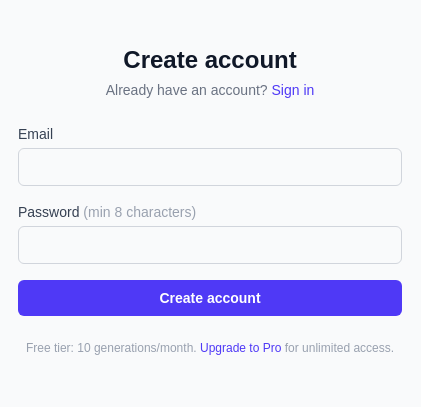
Scenario: RegisterPage › shows ApiError message on failure
In the field labelled "Email": (210, 167) [18, 148, 402, 186], type "dup@example.com"
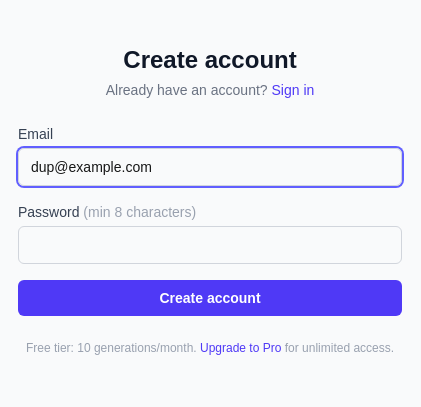
In the password field labelled "Password (min 8 characters)": (210, 245) [18, 226, 402, 264], type "password123"
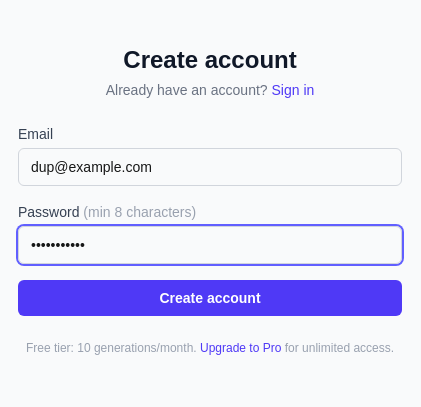
Click the button "Create account": (210, 298) [18, 280, 402, 316]
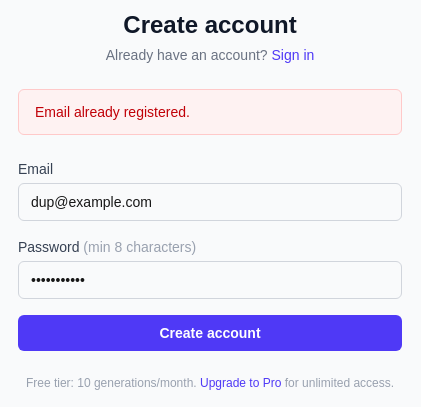
Check: the text "Email already registered." is shown, box [18, 89, 402, 135]
